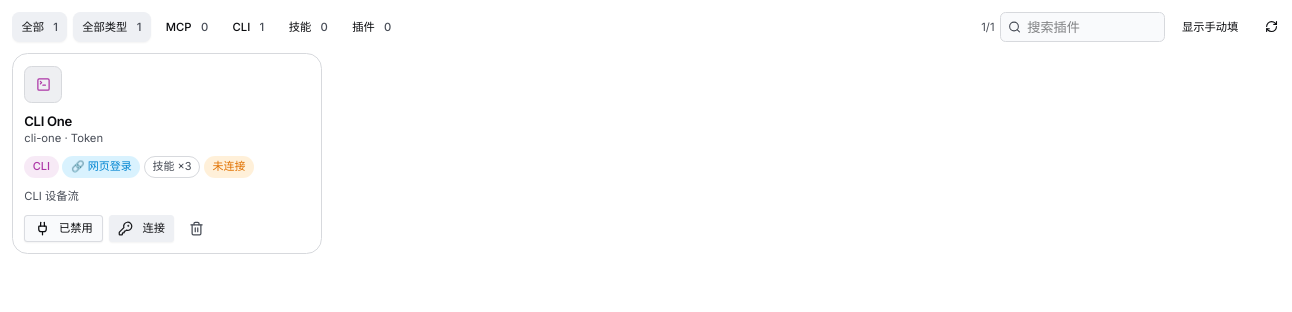
CapabilityMarketPanel › 设备流取消失败时阻止卸载
Check: the text "CLI One" is shown, box [24,113,72,129]
Step 1. Click the button titled "卸载能力包" → click(197, 228), box [180,215,214,242]
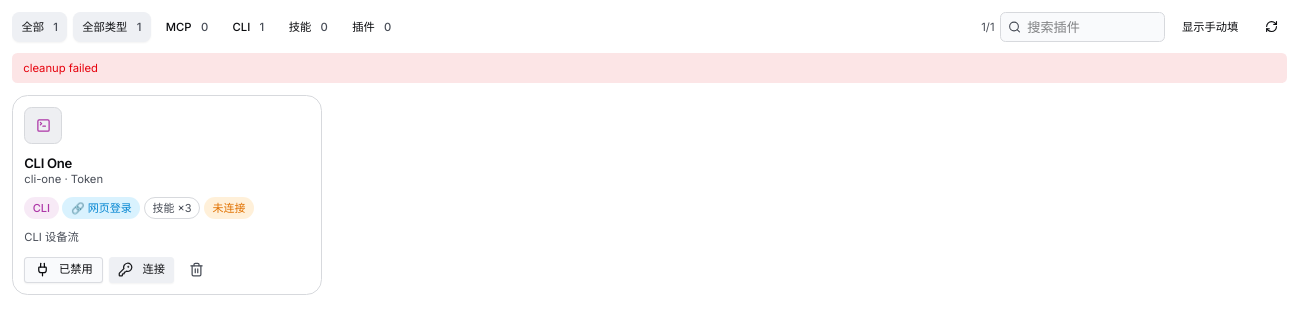
Check: the text "cleanup failed" is shown, box [12,53,1287,83]
